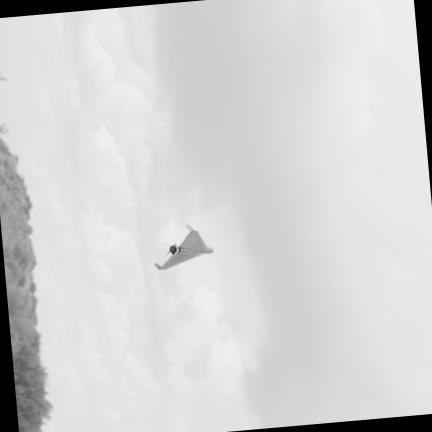Shahed: (155, 226, 212, 270)
